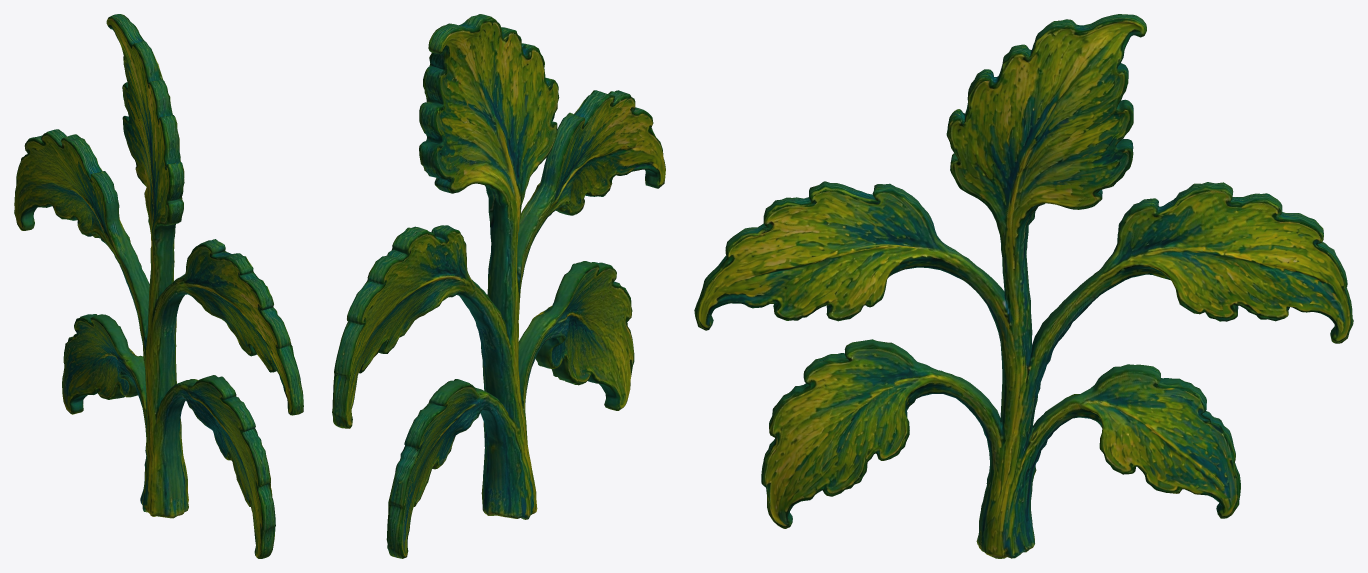
Rendered from plant+3d+model+1k.glb.
The picture shows the model from 3 angles, left to right: view 1: azimuth 30°, elevation 25°; view 2: azimuth 150°, elevation 25°; view 3: azimuth 270°, elevation 25°; orthographic projection. The views are drawn at different scales.
Visible parts, largest first — view 1: tripo_node_828fe141-0490-43cf-ab9b-f8ba009e339e; view 2: tripo_node_828fe141-0490-43cf-ab9b-f8ba009e339e; view 3: tripo_node_828fe141-0490-43cf-ab9b-f8ba009e339e.
Part boxes in pixels (bbox=[...]): tripo_node_828fe141-0490-43cf-ab9b-f8ba009e339e: bbox=[14, 14, 303, 558]; tripo_node_828fe141-0490-43cf-ab9b-f8ba009e339e: bbox=[332, 14, 665, 558]; tripo_node_828fe141-0490-43cf-ab9b-f8ba009e339e: bbox=[694, 14, 1353, 558].
Bounding box in the file's own units: 0.0955 × 0.9 × 1.
Materials: 1 (1 with a texture image).
